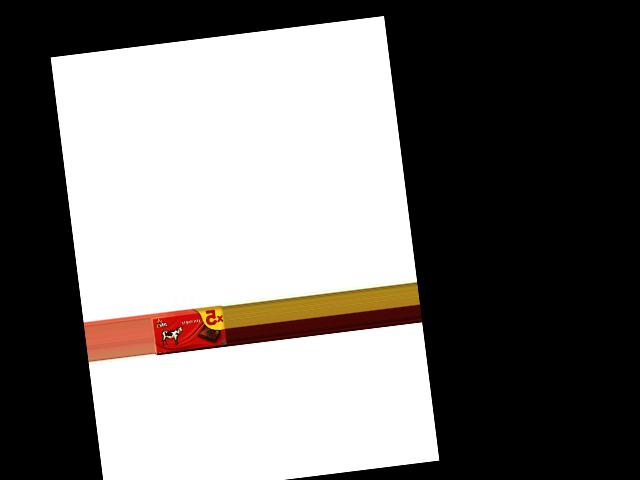chocolate: (149, 303, 227, 355)
